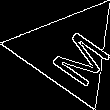M_NW: (32, 18, 105, 85)
